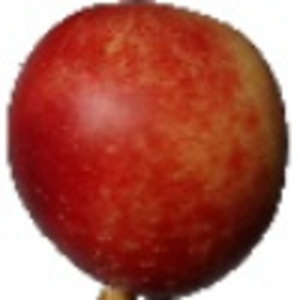nectarina: (5, 1, 290, 300)
